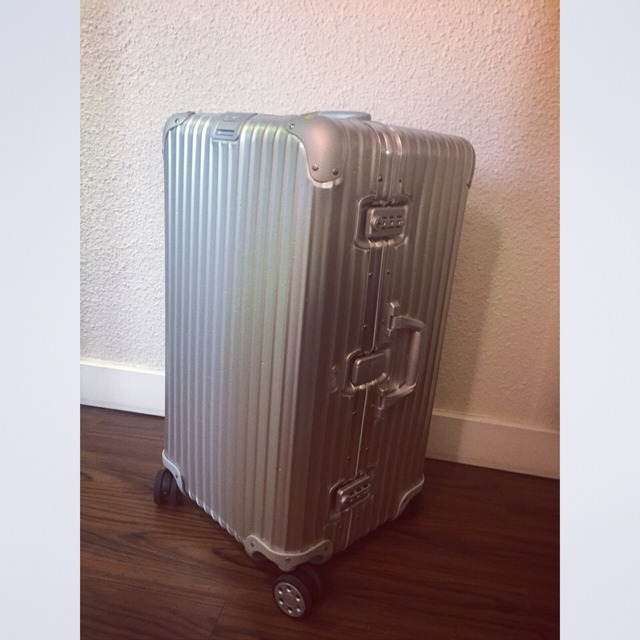suitcase: (154, 108, 479, 615)
